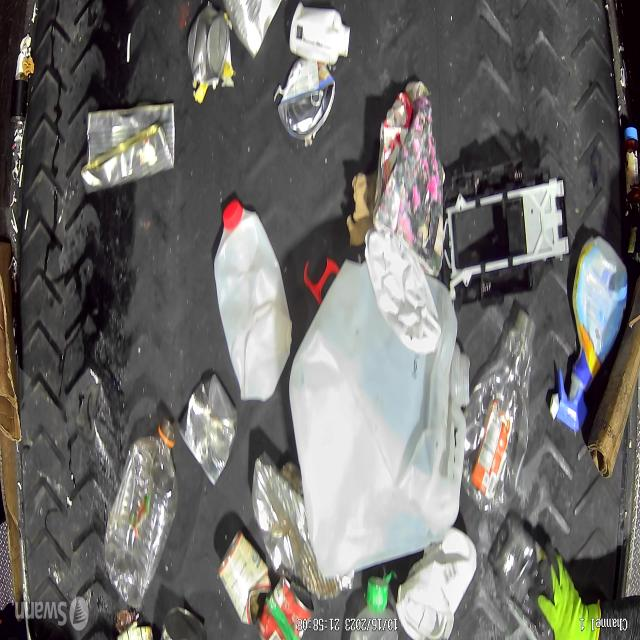can: (249, 446, 358, 600), (179, 369, 239, 486), (217, 530, 272, 628), (276, 56, 337, 141), (256, 570, 314, 640), (185, 1, 228, 89)
milk_jug: (288, 257, 472, 580), (212, 196, 294, 404)
plastic_bottle: (458, 310, 538, 518), (101, 414, 179, 615), (491, 515, 544, 624)
